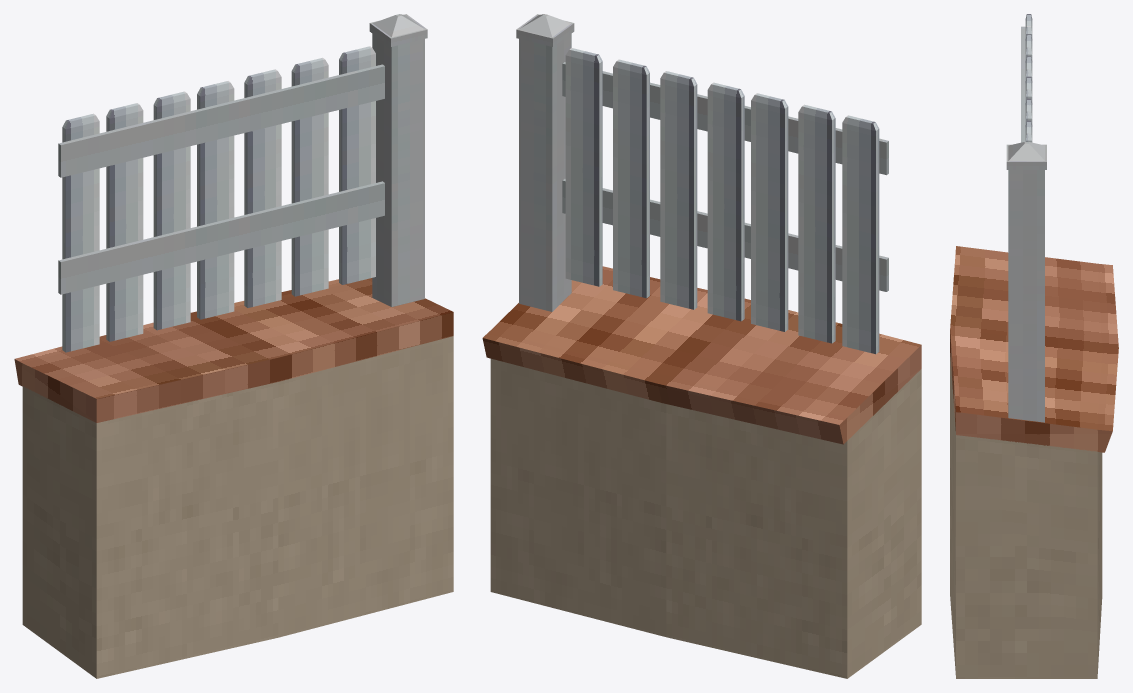
File: plaster_wall_half_fenced.glb
The picture shows the model from 3 angles, left to right: view 1: azimuth 30°, elevation 25°; view 2: azimuth 150°, elevation 25°; view 3: azimuth 270°, elevation 25°; orthographic projection. The views are drawn at different scales.
Visible parts, largest first — view 1: plaster_wall_half_fenced; view 2: plaster_wall_half_fenced; view 3: plaster_wall_half_fenced.
Part boxes in pixels (<box>): plaster_wall_half_fenced: <box>14,14,453,678</box>; plaster_wall_half_fenced: <box>482,14,921,678</box>; plaster_wall_half_fenced: <box>950,14,1118,678</box>.
Bounding box in the file's own units: 1.01 × 1.48 × 0.4296.
3 materials, 3 textured.
